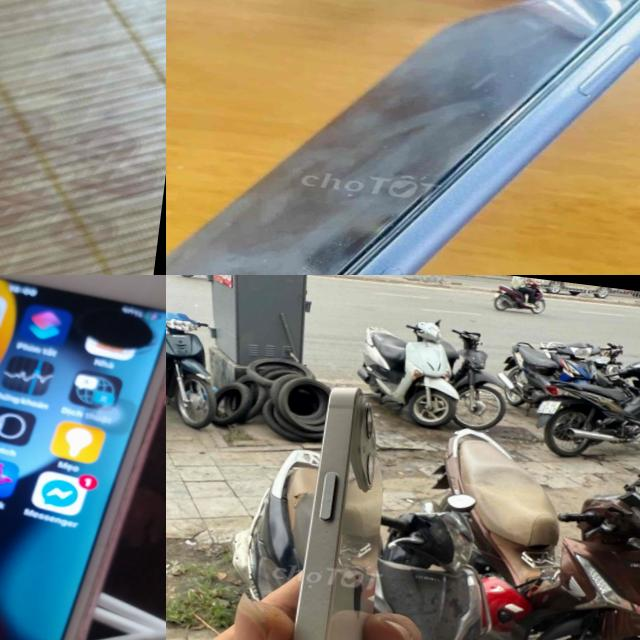gen_11: (166, 0, 640, 275)
gen_12_13: (258, 375, 410, 640)
gen_15: (0, 0, 106, 275)
gen_6: (0, 275, 166, 640)
